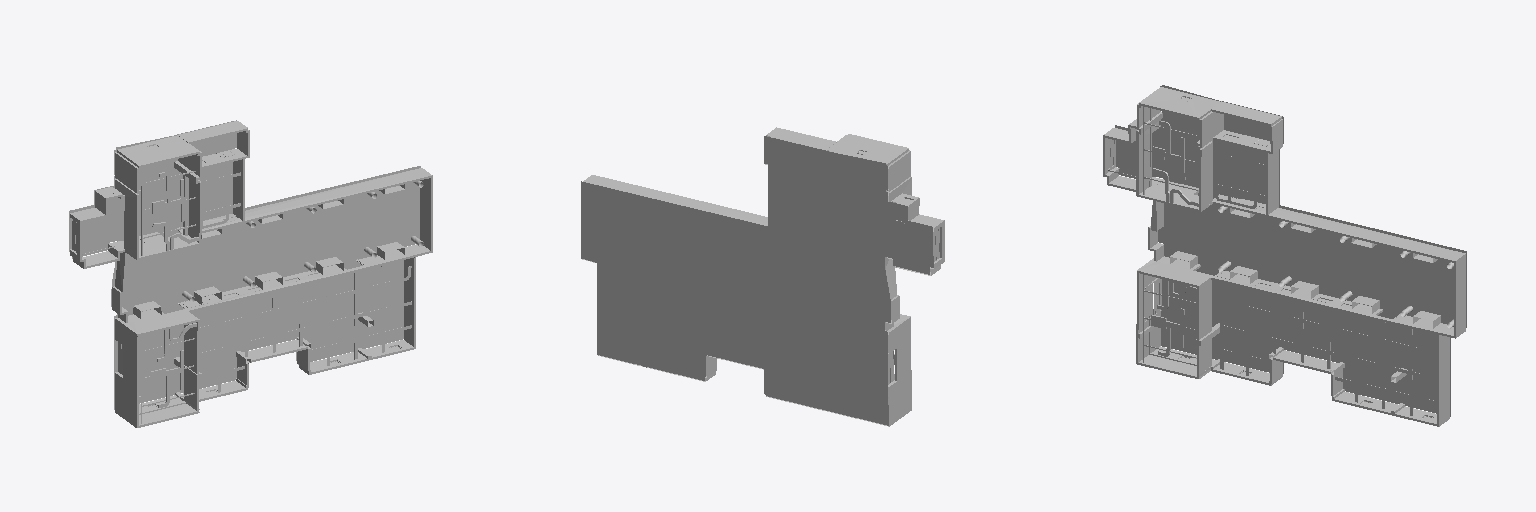
Rendered from iilab2xm.obj.
The picture shows the model from 3 angles: view 1: azimuth 30°, elevation 25°; view 2: azimuth 150°, elevation 25°; view 3: azimuth 330°, elevation 25°; orthographic projection.
Visible parts, largest first — view 1: Floor, Wall1, Wall3.001, Wall4.001, CealingFrame, Wall2, Shafts, Ventilation_001, Ventilation, RoundedPosts, CealingFrame_001; view 2: Floor, Wall1, Wall3.001, Wall2; view 3: Floor, Wall1, Wall3.001, Wall4.001, CealingFrame, Shafts, Wall2, CealingFrame_001, Ventilation, Ventilation_001, RoundedPosts.
Boxes of the visible parts, box(x1,y1,x2,y2) form: Floor: box(69, 120, 420, 409); Wall1: box(115, 121, 432, 311); Wall3.001: box(115, 309, 199, 427); Wall4.001: box(183, 257, 415, 401); CealingFrame: box(190, 265, 411, 392); Wall2: box(70, 187, 127, 322); Shafts: box(133, 184, 404, 319); Ventilation_001: box(151, 323, 196, 407); Ventilation: box(152, 172, 198, 250); RoundedPosts: box(182, 181, 423, 301); CealingFrame_001: box(201, 163, 240, 228); Floor: box(581, 136, 933, 425); Wall1: box(582, 127, 911, 262); Wall3.001: box(825, 314, 911, 426); Wall2: box(885, 193, 944, 330); Floor: box(1115, 85, 1466, 416); Wall1: box(1136, 87, 1465, 338); Wall3.001: box(1136, 256, 1219, 378); Wall4.001: box(1213, 335, 1449, 426); CealingFrame: box(1212, 280, 1436, 415); Shafts: box(1170, 193, 1440, 328); Wall2: box(1103, 119, 1163, 260); CealingFrame_001: box(1215, 140, 1265, 208); Ventilation: box(1152, 121, 1198, 206); Ventilation_001: box(1151, 280, 1196, 356); RoundedPosts: box(1218, 206, 1453, 328).
Size of the model in its own units: 69.77 by 49.89 by 8.53.